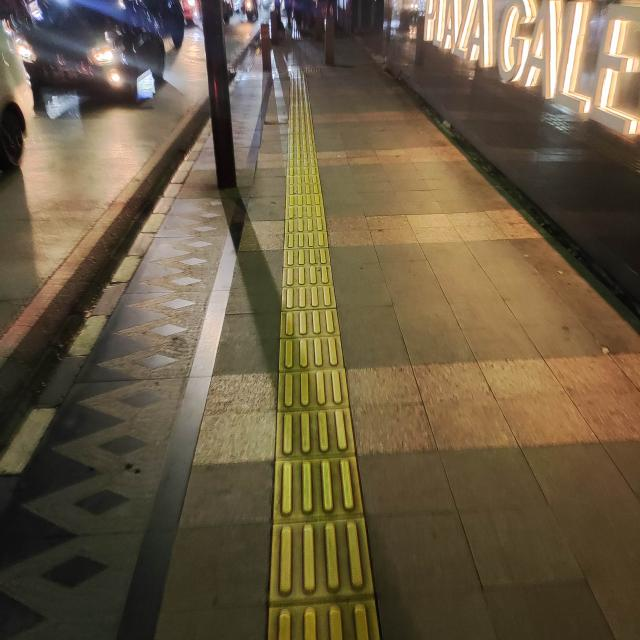lurus: (252, 94, 375, 636)
